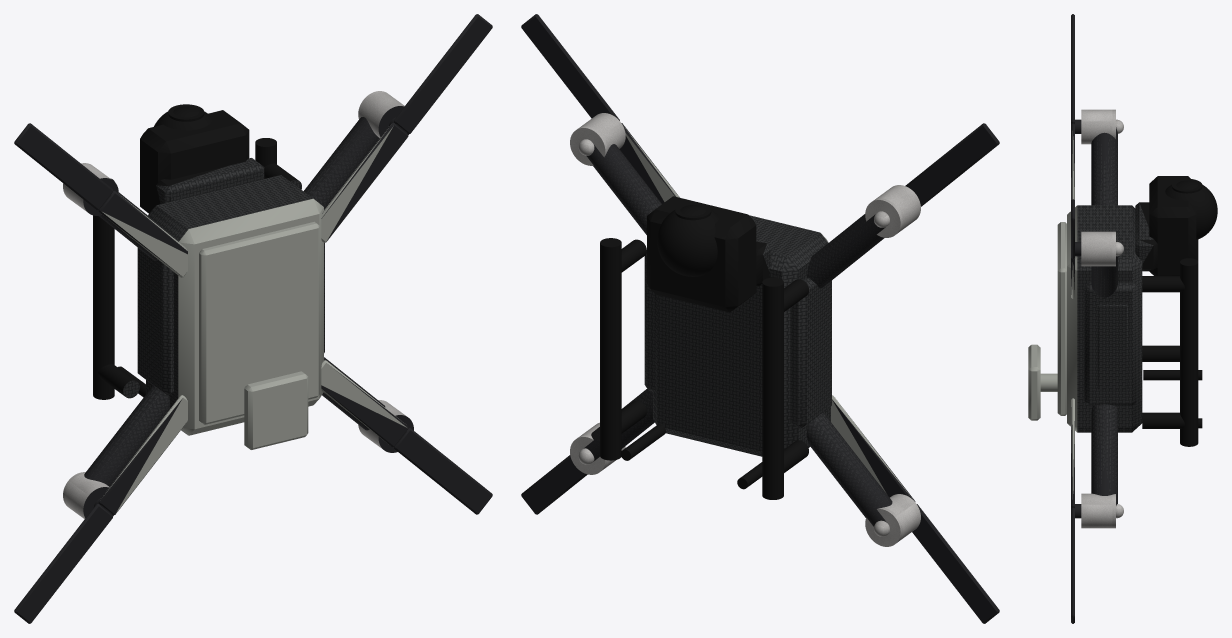
File: quad_tex.obj
The picture shows the model from 3 angles, left to right: view 1: azimuth 30°, elevation 25°; view 2: azimuth 150°, elevation 25°; view 3: azimuth 270°, elevation 25°; orthographic projection. The views are drawn at different scales.
Visible parts, largest first — view 1: payload, prop, carbon, gear, motor; view 2: carbon, gear, prop, motor, payload; view 3: carbon, gear, prop, payload, motor.
Boxes of the visible parts, box(x1,y1,x2,y2) form: payload: box(102, 126, 406, 512); prop: box(14, 14, 492, 623); carbon: box(86, 120, 378, 485); gear: box(93, 104, 297, 399); motor: box(63, 91, 406, 518); carbon: box(590, 145, 890, 518); gear: box(600, 196, 808, 499); prop: box(521, 14, 999, 623); motor: box(570, 113, 920, 546); payload: box(625, 128, 912, 498); carbon: box(1077, 132, 1153, 494); gear: box(1139, 176, 1217, 446); prop: box(1071, 14, 1117, 623); payload: box(1028, 131, 1077, 499); motor: box(1081, 109, 1123, 528).
Size of the model in its own units: 0.666 by 0.666 by 0.2697.
5 materials, 2 textured.
